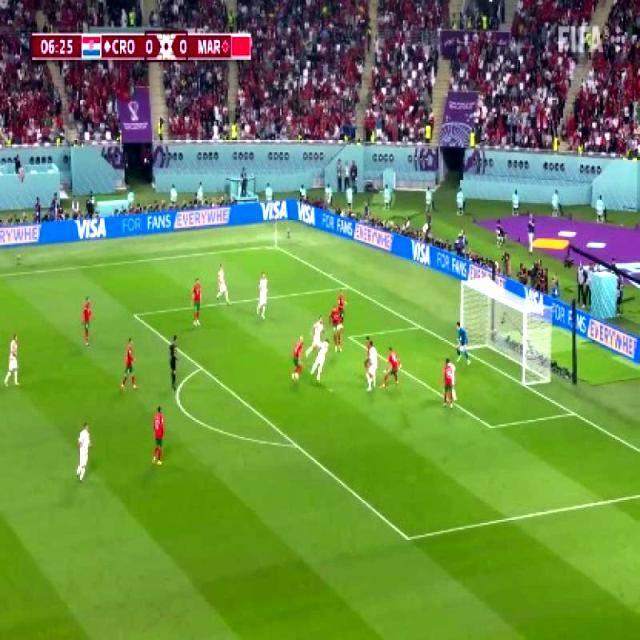bigarea_bottom_inner: (396, 522, 418, 552)
bigarea_top_inner: (126, 303, 142, 323)
bigarea_top_outter: (340, 276, 355, 294)
bottom_arc_area_intersection: (288, 434, 304, 456)
corner: (266, 238, 282, 252)
smallarea_bottom_inner: (482, 412, 500, 440)
smallarea_bottom_outter: (563, 402, 582, 423)
smallarea_top_inner: (341, 326, 356, 346)
smallarea_top_outter: (410, 315, 428, 335)
top_arc_area_intersection: (194, 358, 208, 376)
